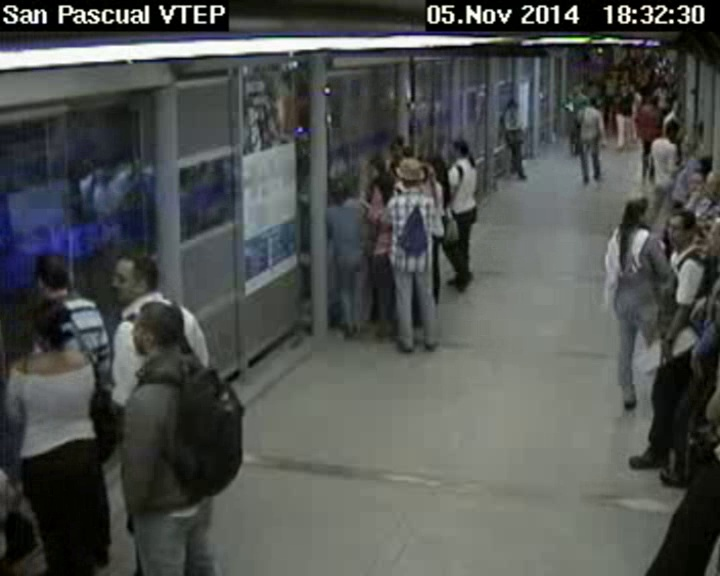person: (123, 300, 183, 360), (106, 247, 166, 301), (26, 295, 80, 352), (28, 248, 75, 297), (663, 209, 697, 253), (388, 156, 432, 188), (612, 194, 652, 229), (326, 177, 359, 210), (660, 113, 689, 146), (686, 165, 709, 199), (705, 166, 720, 215), (443, 136, 474, 159), (367, 151, 388, 179), (505, 88, 520, 111), (584, 94, 597, 109), (644, 96, 657, 111), (618, 83, 629, 92)
